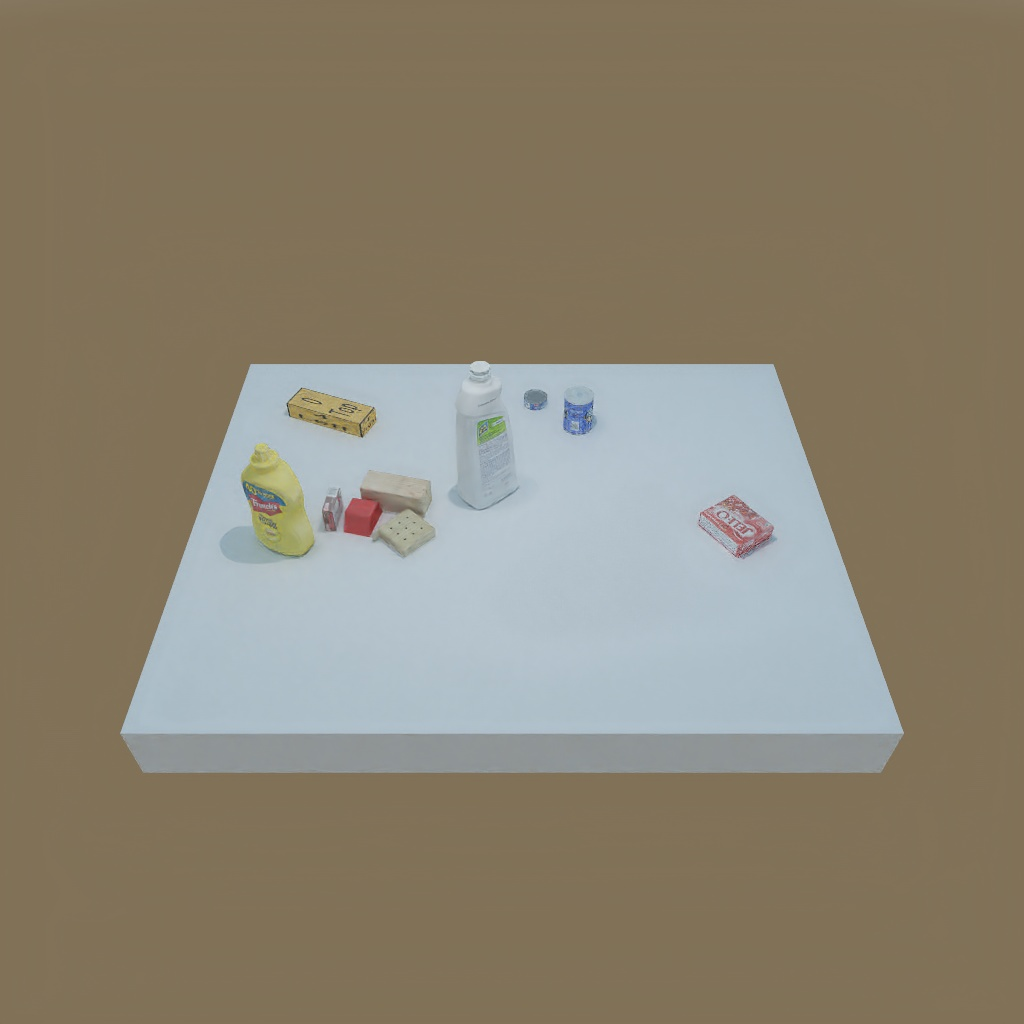gelatin_box: (699, 493, 774, 555)
jenga: (283, 386, 379, 438)
master_chef_can: (561, 385, 598, 439)
mustard_bottle: (256, 446, 319, 560)
nine_hole_peg_test: (372, 510, 436, 554)
pudding_box: (321, 481, 344, 530)
wood_block: (362, 468, 433, 520)
